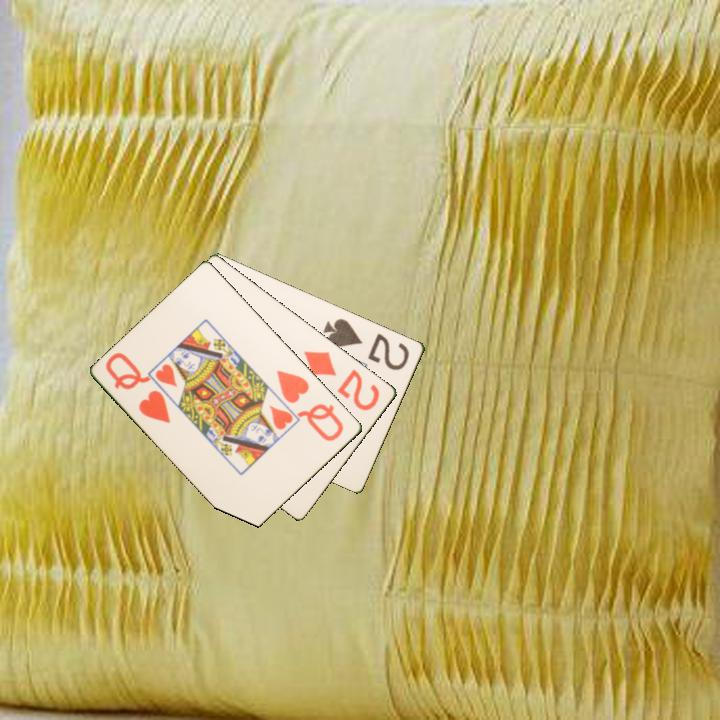2d: (300, 347, 383, 414)
2s: (320, 315, 412, 373)
Qh: (273, 367, 347, 444), (102, 349, 174, 426)
